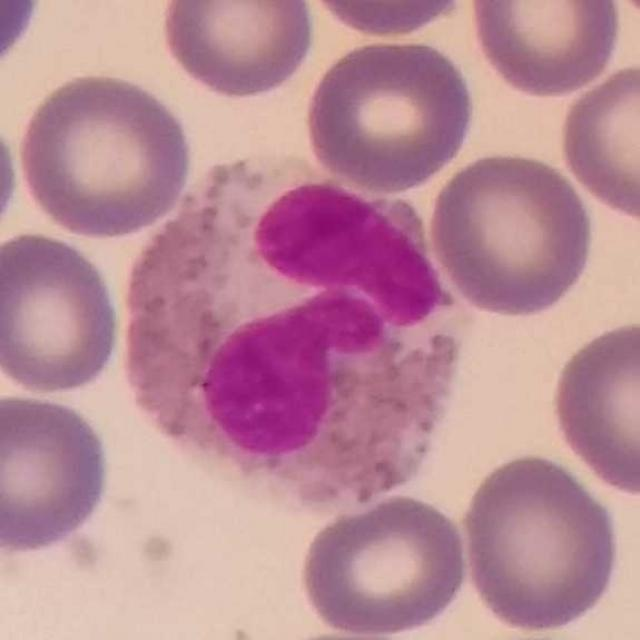eosino: (124, 152, 460, 515)
